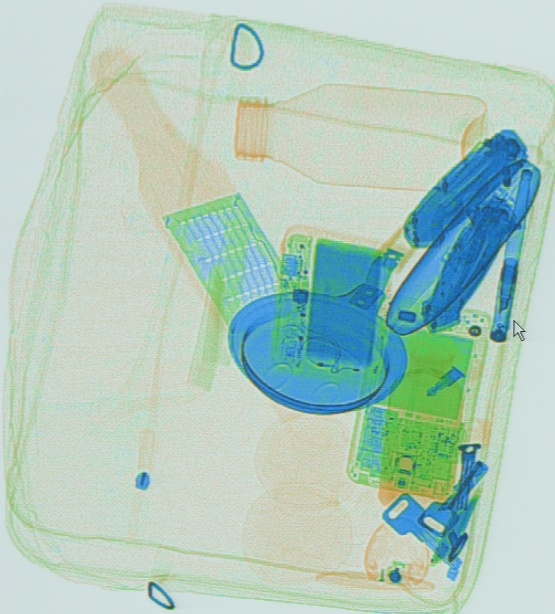knife: (399, 124, 528, 248), (418, 195, 518, 333)
